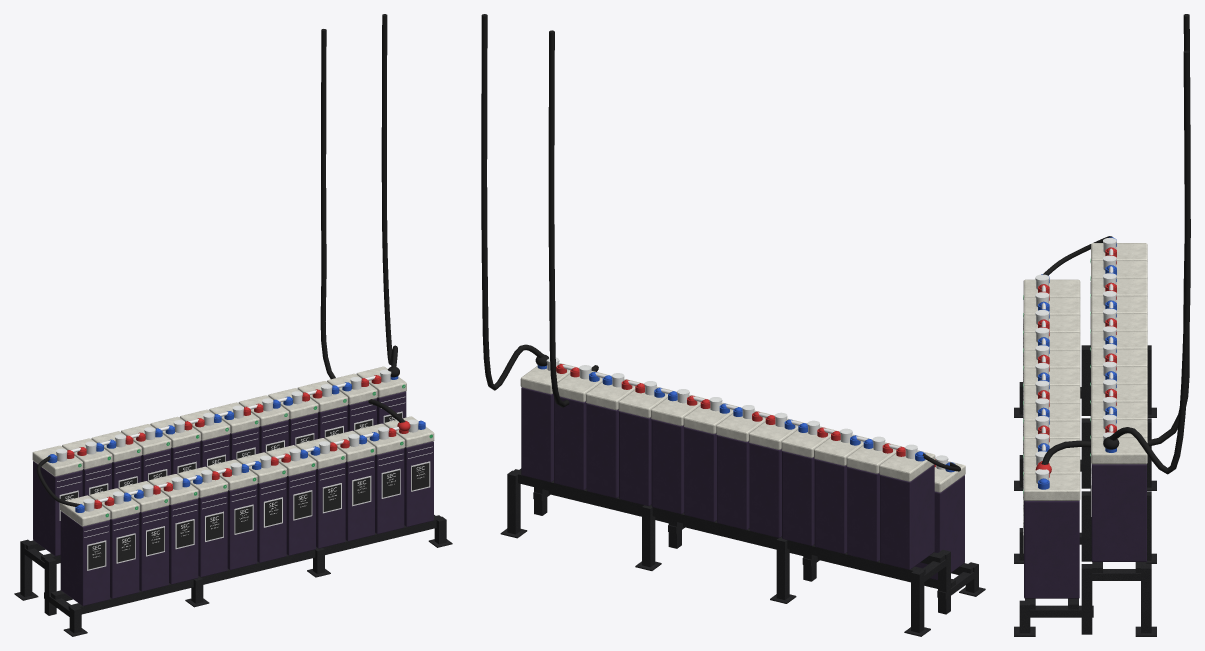
File: B05_LeadAcid_Battery_Bank.fbx
The picture shows the model from 3 angles, left to right: view 1: azimuth 30°, elevation 25°; view 2: azimuth 150°, elevation 25°; view 3: azimuth 270°, elevation 25°; orthographic projection. The views are drawn at different scales.
Visible parts, largest first — view 1: Cell_12, Cell_13, Cell_07, Cell_06, Cell_09, Cell_08, Cell_02, Cell_03, Cell_05, Cell_04, Cell_10, Cell_11 (+16 smaller); view 2: Cell_13, Cell_15, Cell_20, Cell_14, Cell_19, Cell_17, Cell_22, Cell_18, Cell_21, Cell_16, Cell_23, Cell_24 (+9 smaller); view 3: Cell_01, Cell_24, MainCable_NEG, MainCable_POS, Cell_06, Cell_09, Cell_12, Cell_20, Cell_17, Cell_14, Cell_05, Cell_08 (+25 smaller).
Part boxes in pixels (left/top/right/bottom): Cell_12: left=60, top=495, right=110, bottom=605; Cell_13: left=32, top=445, right=82, bottom=556; Cell_07: left=207, top=459, right=257, bottom=570; Cell_06: left=236, top=452, right=287, bottom=562; Cell_09: left=148, top=474, right=198, bottom=584; Cell_08: left=177, top=466, right=228, bottom=577; Cell_02: left=354, top=423, right=404, bottom=534; Cell_03: left=325, top=430, right=375, bottom=541; Cell_05: left=266, top=445, right=316, bottom=555; Cell_04: left=295, top=438, right=345, bottom=548; Cell_10: left=119, top=481, right=169, bottom=591; Cell_11: left=89, top=488, right=139, bottom=598; Cell_13: left=879, top=444, right=935, bottom=569; Cell_15: left=814, top=428, right=869, bottom=553; Cell_20: left=651, top=389, right=705, bottom=514; Cell_14: left=846, top=436, right=901, bottom=561; Cell_19: left=683, top=397, right=738, bottom=521; Cell_17: left=749, top=412, right=803, bottom=537; Cell_22: left=586, top=373, right=640, bottom=498; Cell_18: left=716, top=405, right=771, bottom=529; Cell_21: left=618, top=381, right=673, bottom=506; Cell_16: left=781, top=420, right=836, bottom=545; Cell_23: left=554, top=365, right=608, bottom=490; Cell_24: left=520, top=357, right=575, bottom=482; Cell_01: left=1023, top=469, right=1080, bottom=598; Cell_24: left=1090, top=431, right=1147, bottom=561; MainCable_NEG: left=1109, top=50, right=1190, bottom=474; MainCable_POS: left=1041, top=14, right=1190, bottom=464; Cell_06: left=1023, top=380, right=1080, bottom=446; Cell_09: left=1023, top=327, right=1080, bottom=393; Cell_12: left=1023, top=274, right=1080, bottom=340; Cell_20: left=1090, top=361, right=1147, bottom=422; Cell_17: left=1090, top=308, right=1147, bottom=369; Cell_14: left=1090, top=255, right=1147, bottom=316; Cell_05: left=1023, top=397, right=1080, bottom=464; Cell_08: left=1023, top=344, right=1080, bottom=411.
Bounding box in the file's own units: 2.03 × 2.4 × 0.6553.
12 materials, 5 textured.
